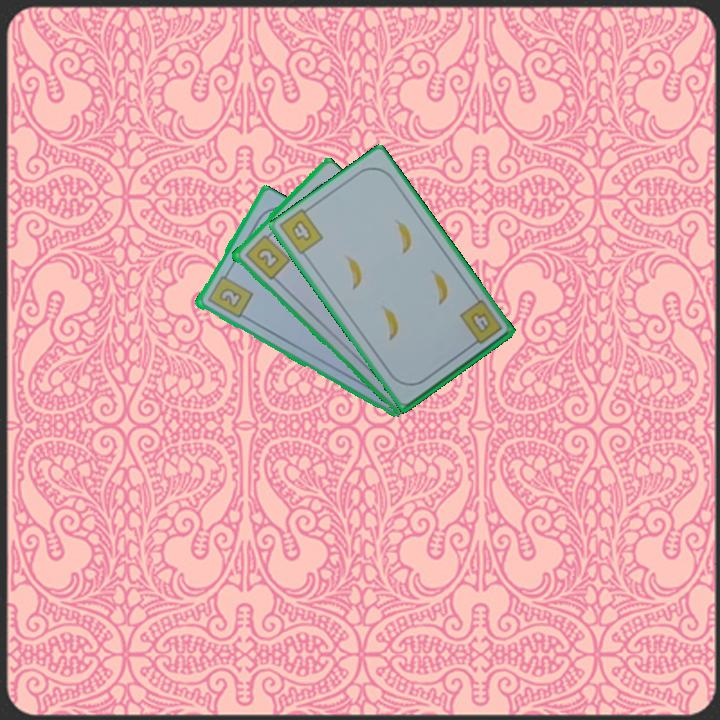2b: (241, 228, 293, 283), (204, 268, 255, 321)
4b: (456, 296, 505, 350), (288, 216, 315, 244)
